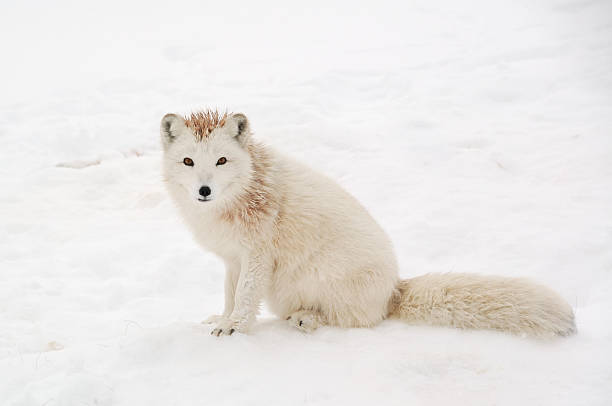arcticfox: (167, 129, 264, 226)
